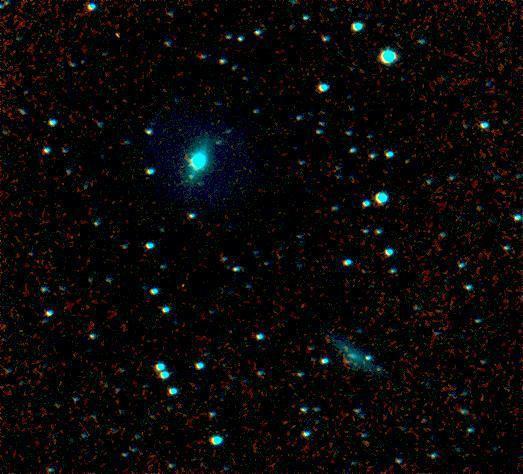star: (100, 21, 130, 51)
